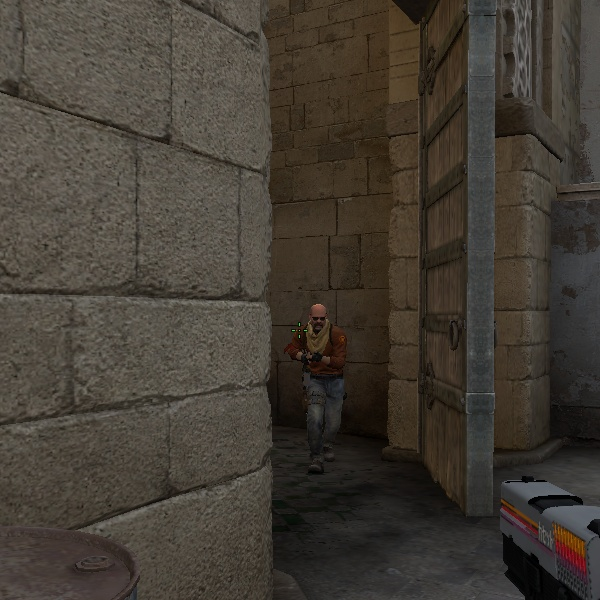t_body: (267, 299, 364, 474)
t_head: (301, 301, 334, 336)
